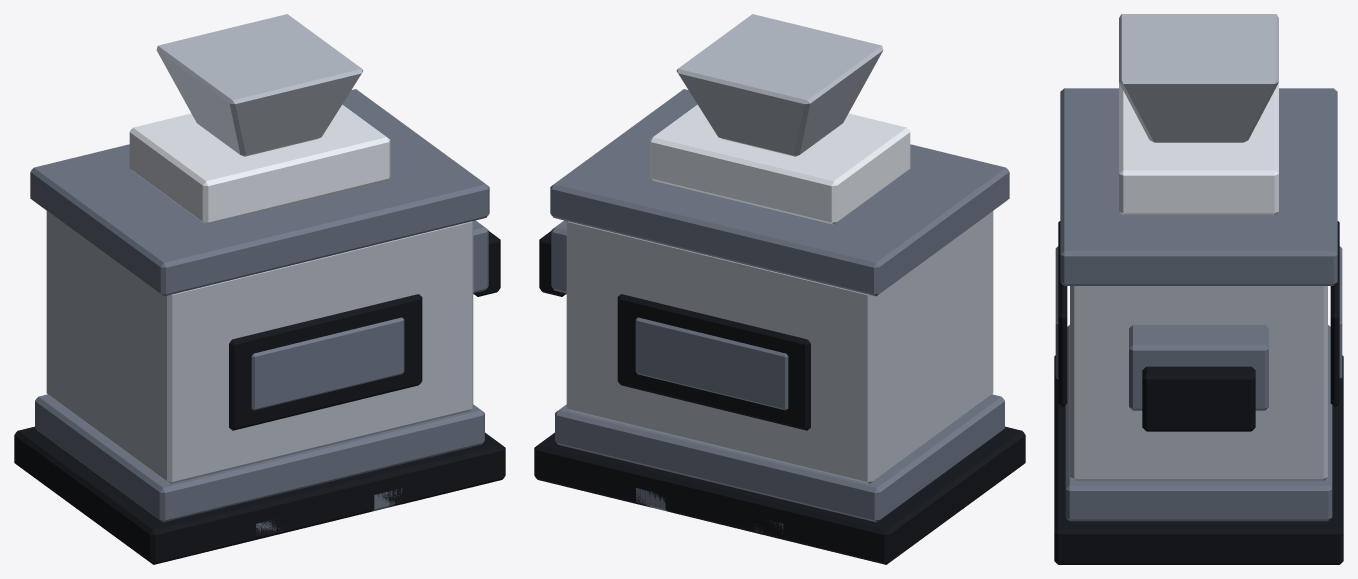
Rendered from dropper-basic.glb.
The picture shows the model from 3 angles, left to right: view 1: azimuth 30°, elevation 25°; view 2: azimuth 150°, elevation 25°; view 3: azimuth 270°, elevation 25°; orthographic projection. The views are drawn at different scales.
Visible parts, largest first — view 1: dropper-basic; view 2: dropper-basic; view 3: dropper-basic.
Part boxes in pixels (x1,y1,x2,y2): dropper-basic: (14, 14, 505, 564); dropper-basic: (534, 14, 1025, 564); dropper-basic: (1054, 14, 1343, 564).
Size of the model in its own units: 1.04 by 1.05 by 0.64.
